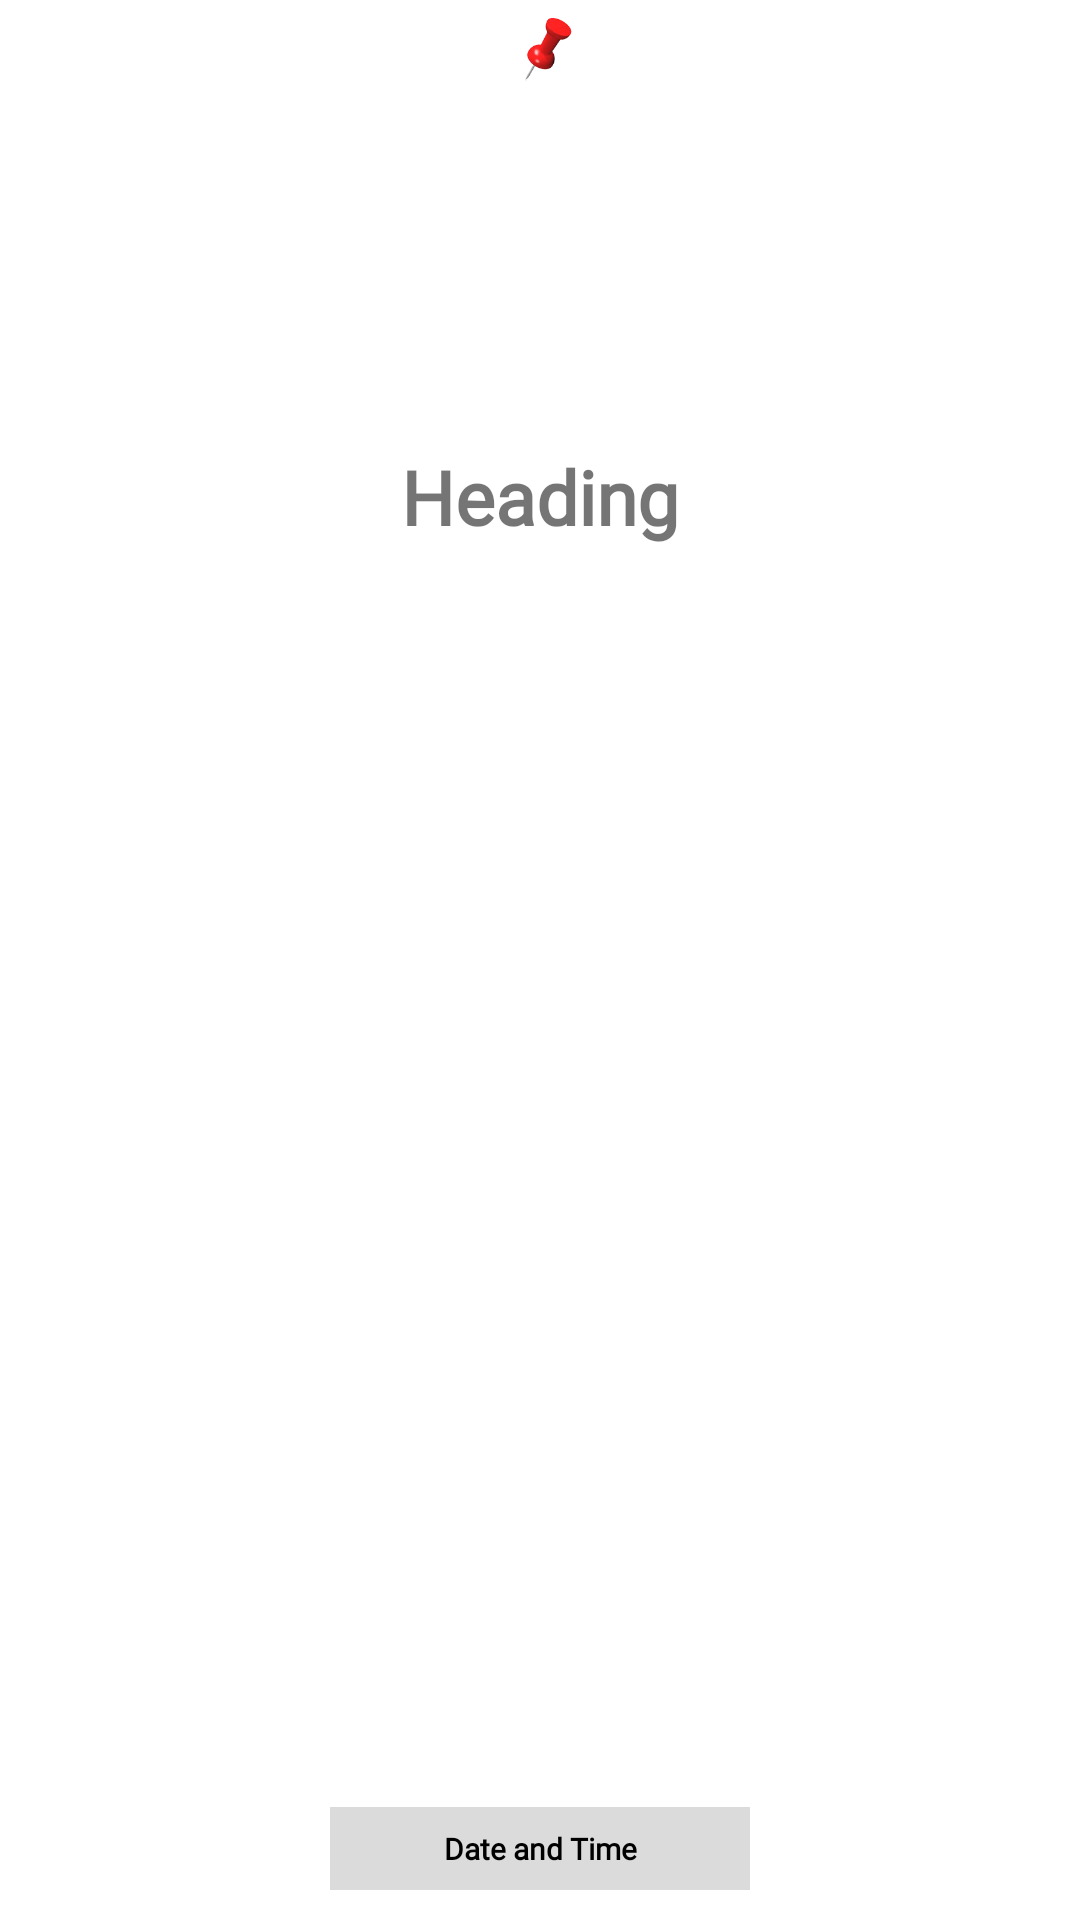

Screen size 1080px×1920px. Icon name, then its box in pixels as region(x1, y1, x2, y2):
pin: region(525, 18, 572, 80)
